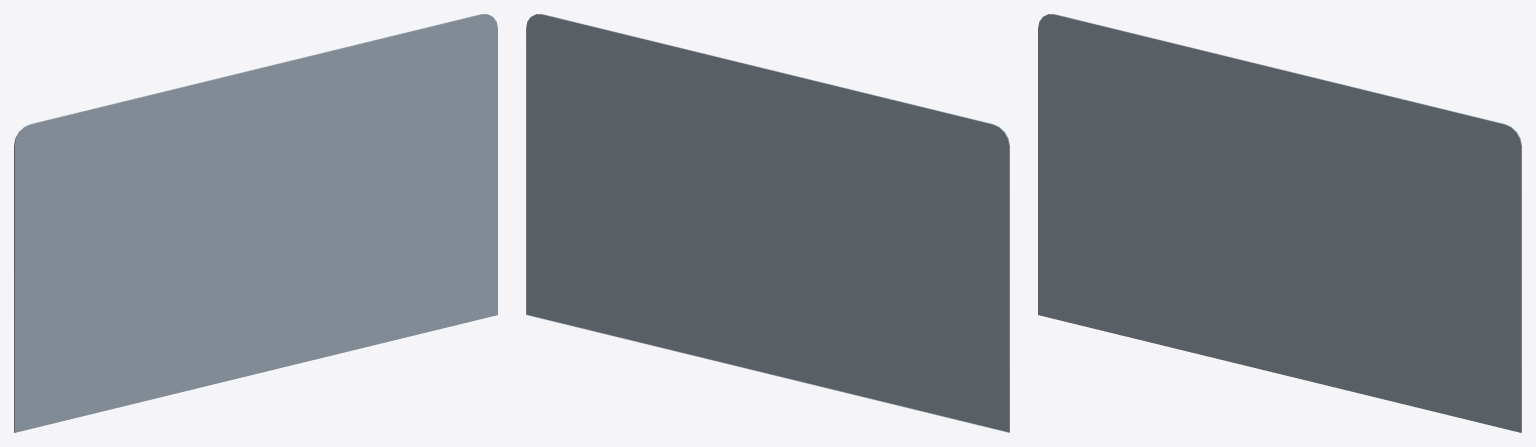
File: Retina.fbx
3 renders of one model, left to right at view 1: azimuth 30°, elevation 25°; view 2: azimuth 150°, elevation 25°; view 3: azimuth 330°, elevation 25°, orthographic.
Parts seen in each view (by area): view 1: Retina; view 2: Retina; view 3: Retina.
Boxes of the visible parts, x1=… form: Retina: x1=14, y1=14, x2=497, y2=432; Retina: x1=526, y1=14, x2=1009, y2=432; Retina: x1=1038, y1=14, x2=1521, y2=432.
Bounding box in the file's own units: 64.92 × 39.07 × 0.15.
